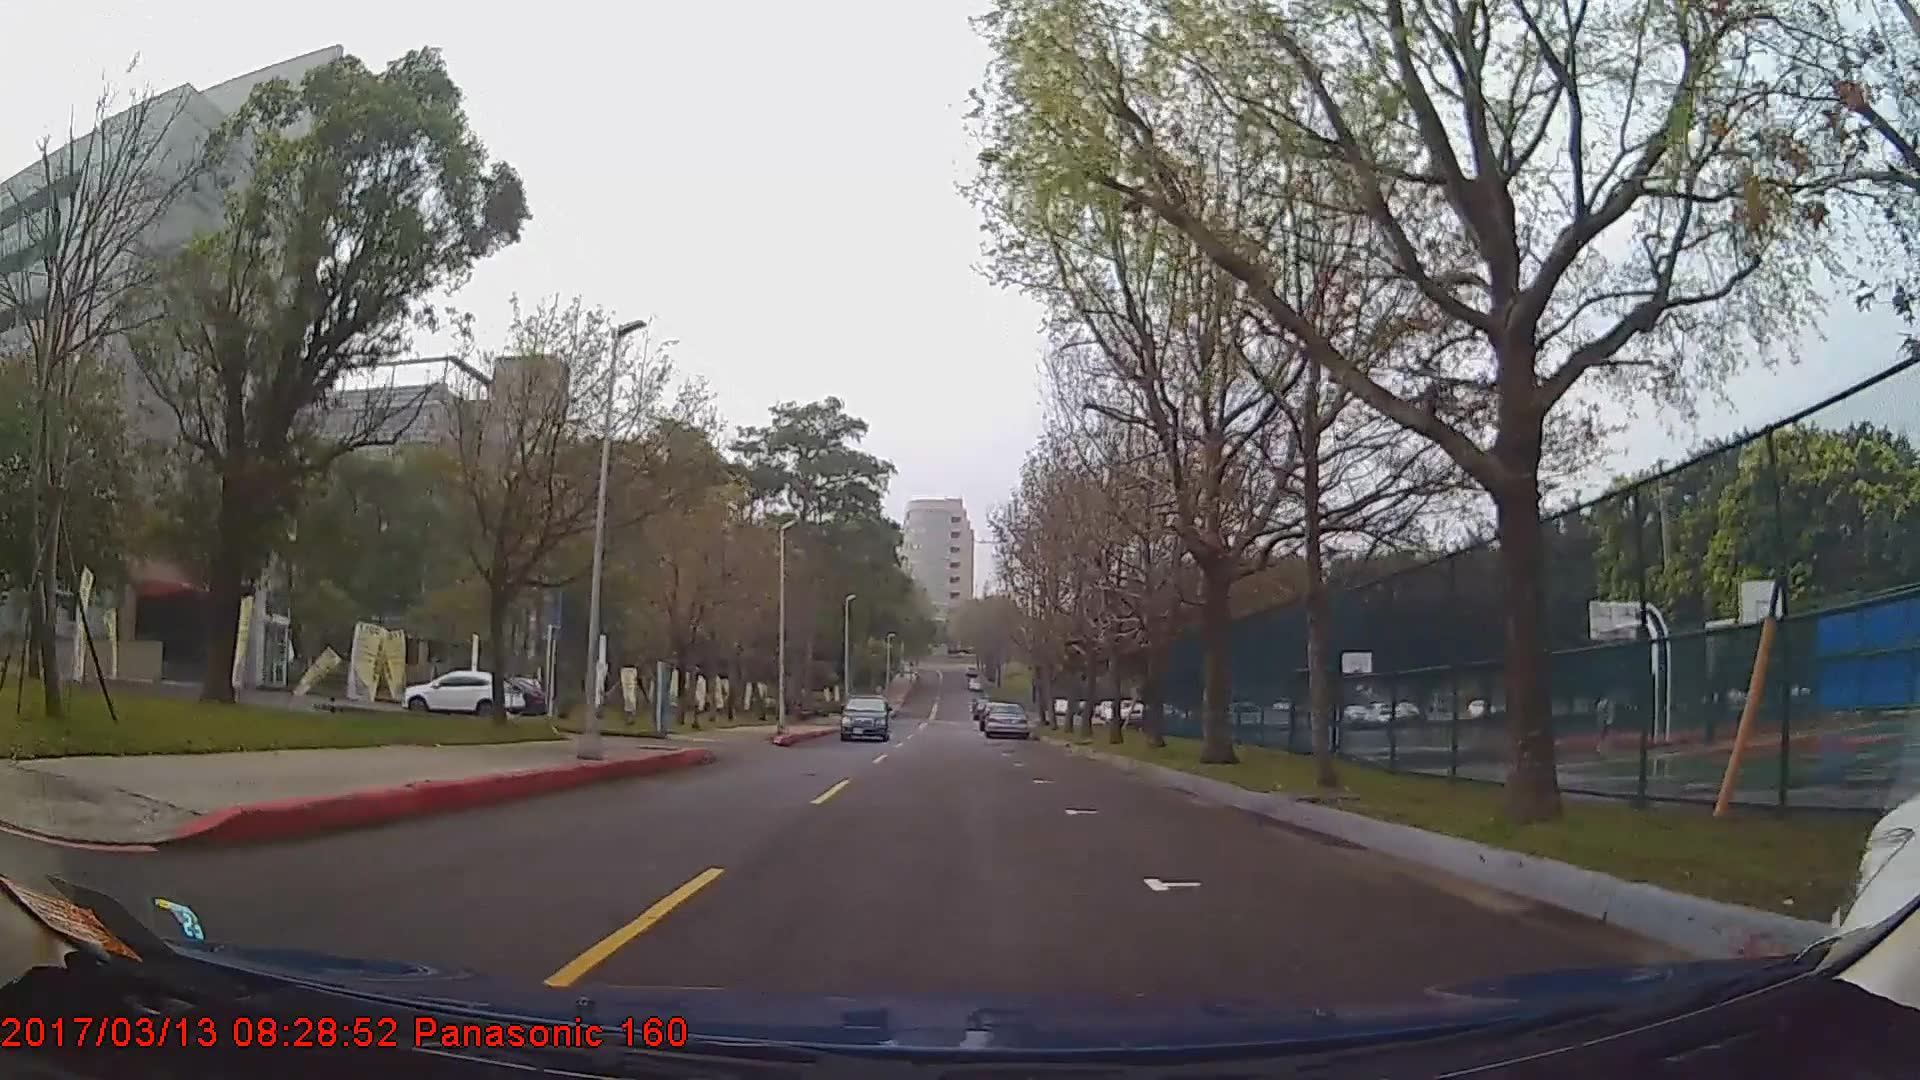vehicle: (400, 666, 524, 716), (839, 691, 889, 741), (982, 700, 1027, 740)
